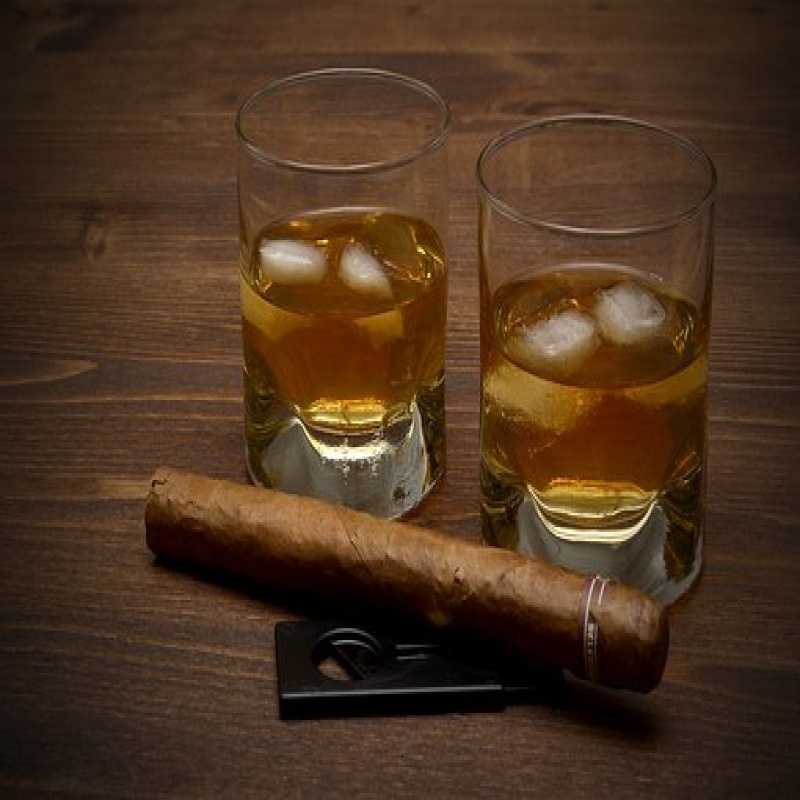whiskey: (477, 115, 717, 611), (230, 72, 450, 508)
